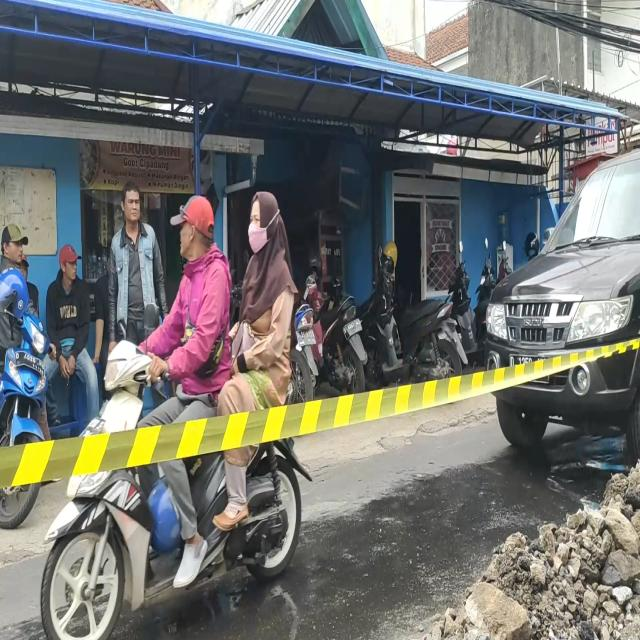no-helmet: (247, 193, 282, 252), (181, 198, 216, 253)
